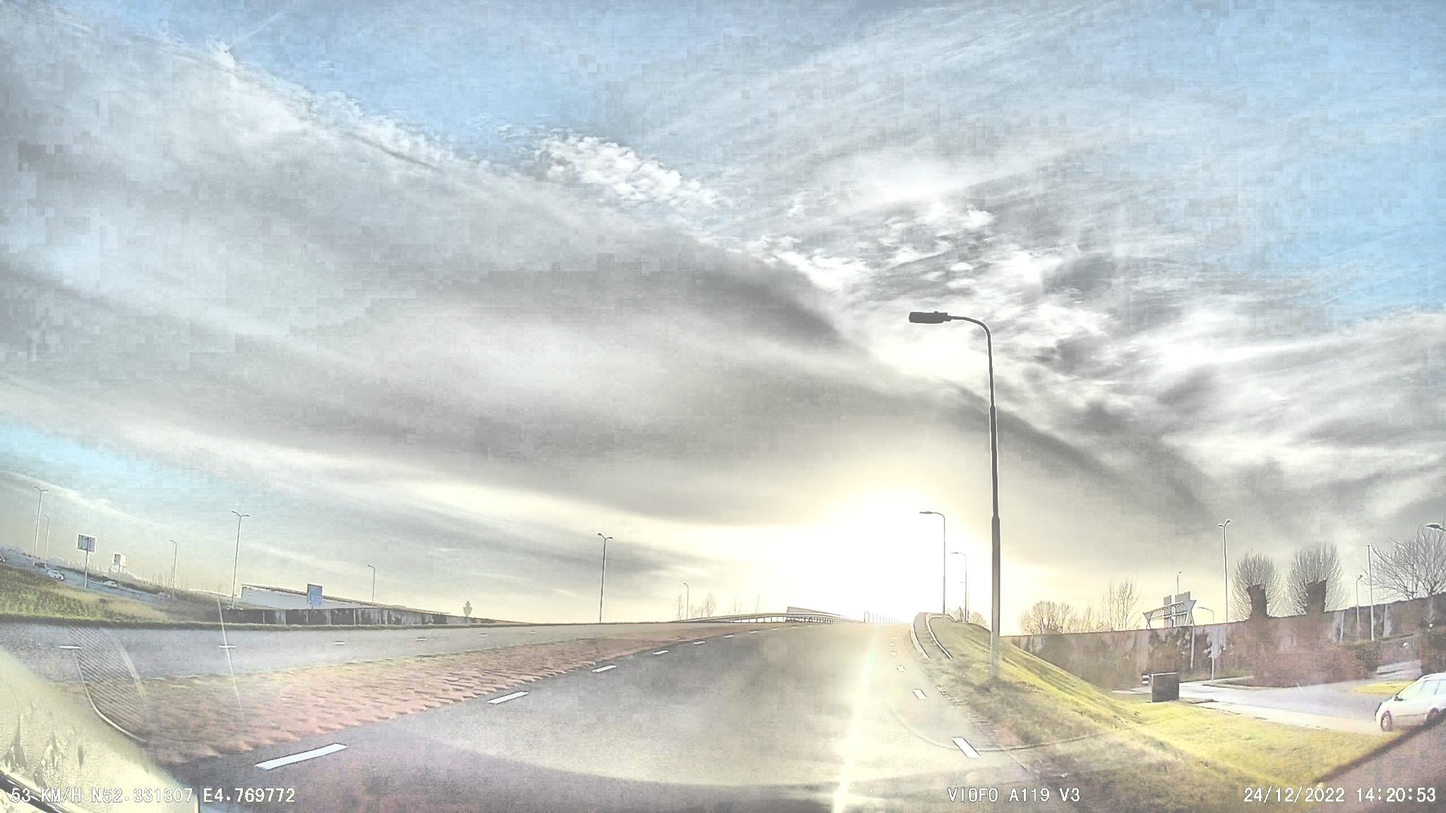Roads: (299, 624, 1072, 813)
